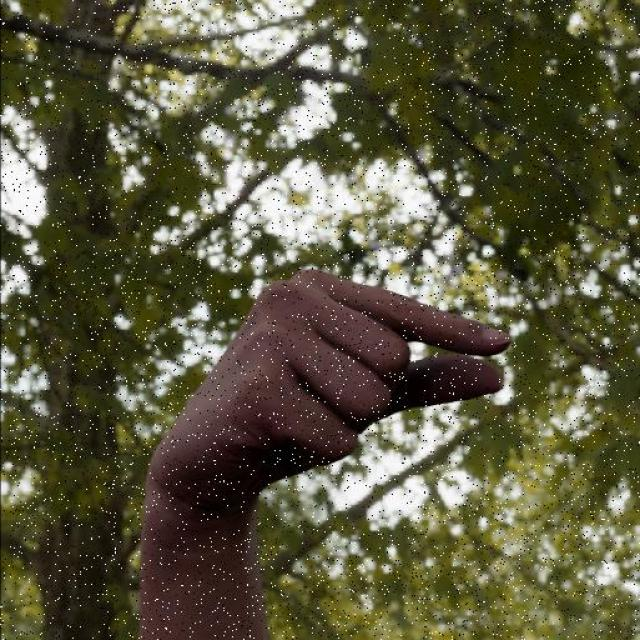Q: (132, 265, 514, 520)
